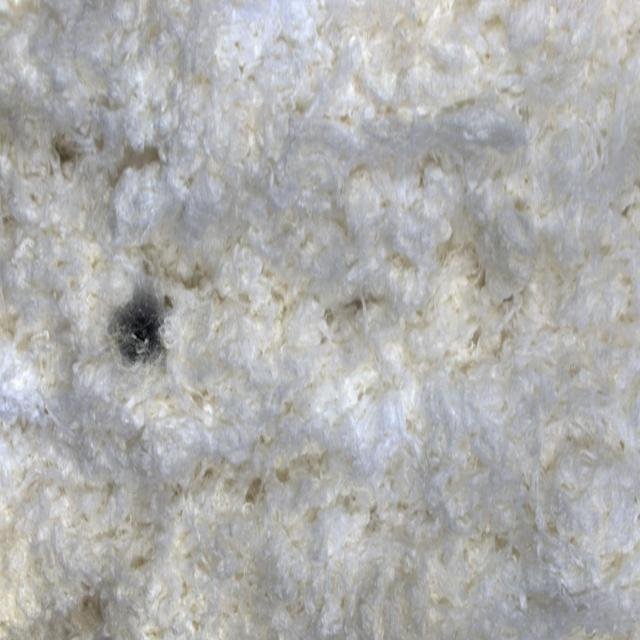dust: (88, 238, 205, 424)
